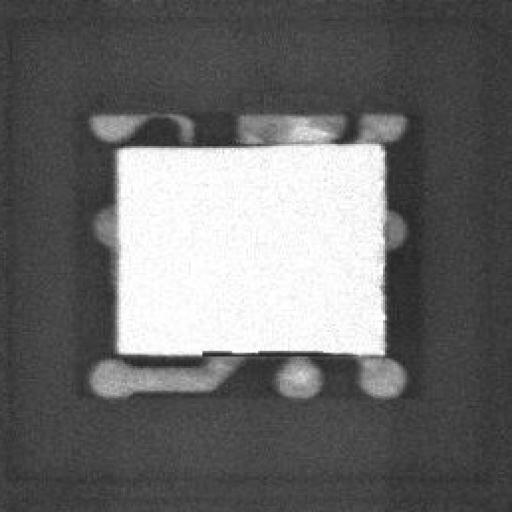DIE_BROKEN: (196, 343, 352, 357)
